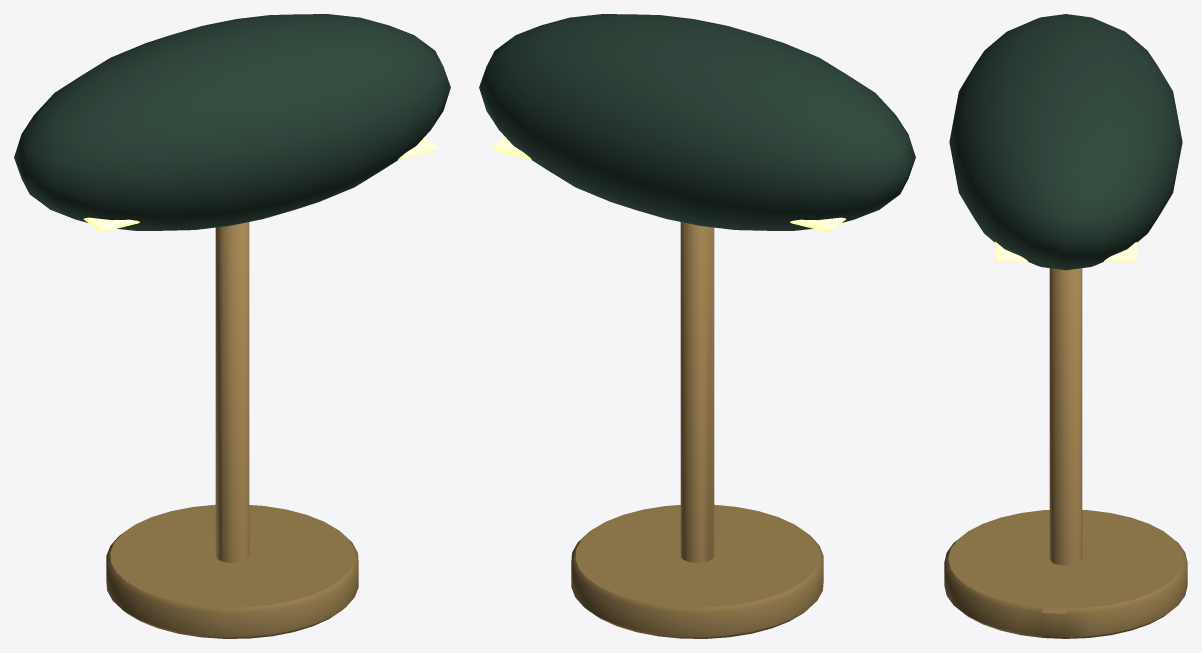
The model's file is desk-lamp.glb.
3 renders of one model, left to right at view 1: azimuth 30°, elevation 25°; view 2: azimuth 150°, elevation 25°; view 3: azimuth 270°, elevation 25°, orthographic. The views are drawn at different scales.
Visible parts, largest first — view 1: part::desk-lamp/banker-green-enamel-shade-001, part::desk-lamp/banker-lamp-foot-001, part::desk-lamp/banker-lamp-stem-001, part::desk-lamp/banker-warm-underside-001; view 2: part::desk-lamp/banker-green-enamel-shade-001, part::desk-lamp/banker-lamp-foot-001, part::desk-lamp/banker-lamp-stem-001, part::desk-lamp/banker-warm-underside-001; view 3: part::desk-lamp/banker-green-enamel-shade-001, part::desk-lamp/banker-lamp-foot-001, part::desk-lamp/banker-lamp-stem-001, part::desk-lamp/banker-warm-underside-001.
Part boxes in pixels (x1,y1,x2,y2): part::desk-lamp/banker-green-enamel-shade-001: (14, 14, 450, 230); part::desk-lamp/banker-lamp-foot-001: (106, 504, 358, 638); part::desk-lamp/banker-lamp-stem-001: (215, 222, 249, 562); part::desk-lamp/banker-warm-underside-001: (83, 137, 437, 232); part::desk-lamp/banker-green-enamel-shade-001: (479, 14, 915, 230); part::desk-lamp/banker-lamp-foot-001: (571, 504, 823, 638); part::desk-lamp/banker-lamp-stem-001: (680, 222, 714, 562); part::desk-lamp/banker-warm-underside-001: (492, 137, 846, 232); part::desk-lamp/banker-green-enamel-shade-001: (949, 14, 1182, 270); part::desk-lamp/banker-lamp-foot-001: (944, 510, 1187, 638); part::desk-lamp/banker-lamp-stem-001: (1049, 268, 1082, 565); part::desk-lamp/banker-warm-underside-001: (995, 242, 1136, 261).
Bounding box in the file's own units: 0.46 × 0.5765 × 0.24.
